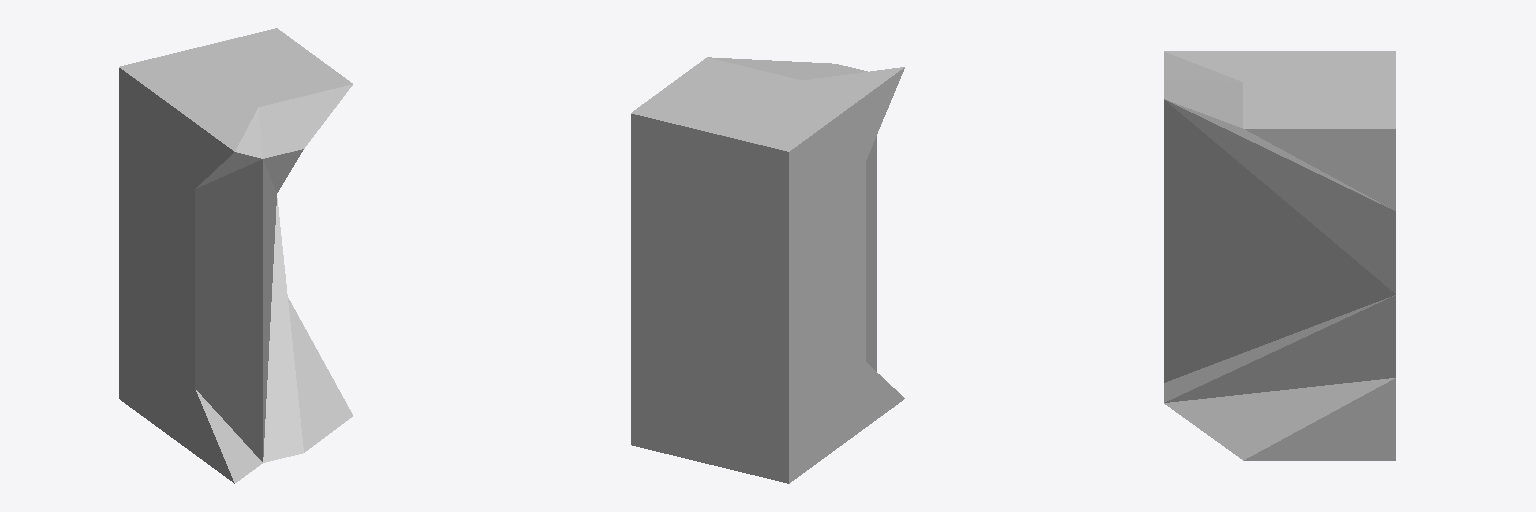
File: BF_Antimatter_Missile_Hatch.obj
3 renders of one model, left to right at view 1: azimuth 30°, elevation 25°; view 2: azimuth 150°, elevation 25°; view 3: azimuth 270°, elevation 25°, orthographic.
Parts seen in each view (by area): view 1: Cube_Cube.006; view 2: Cube_Cube.006; view 3: Cube_Cube.006.
Part boxes in pixels (left/top/right/bottom): Cube_Cube.006: left=119, top=28, right=352, bottom=483; Cube_Cube.006: left=631, top=57, right=904, bottom=483; Cube_Cube.006: left=1164, top=51, right=1395, bottom=460.
Size of the model in its own units: 2.5 by 5 by 3.18.